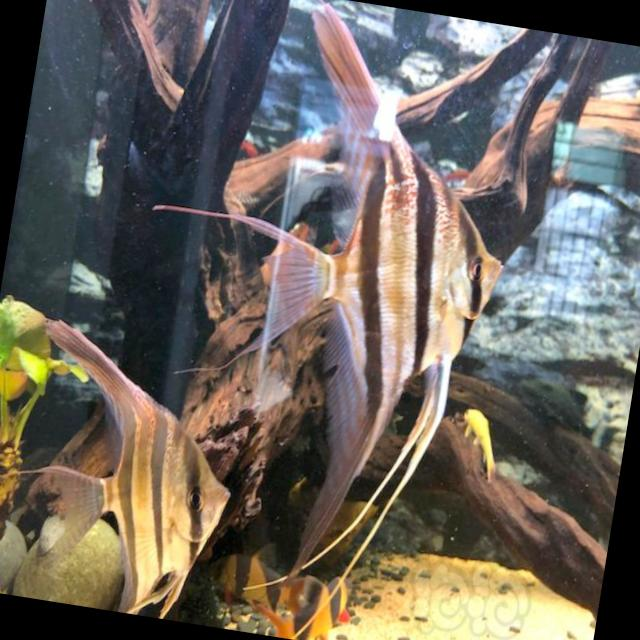AngelFish: (220, 0, 545, 627), (13, 314, 256, 626)
